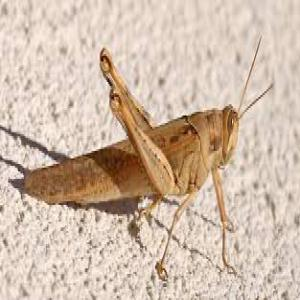locust: (19, 33, 274, 249)
